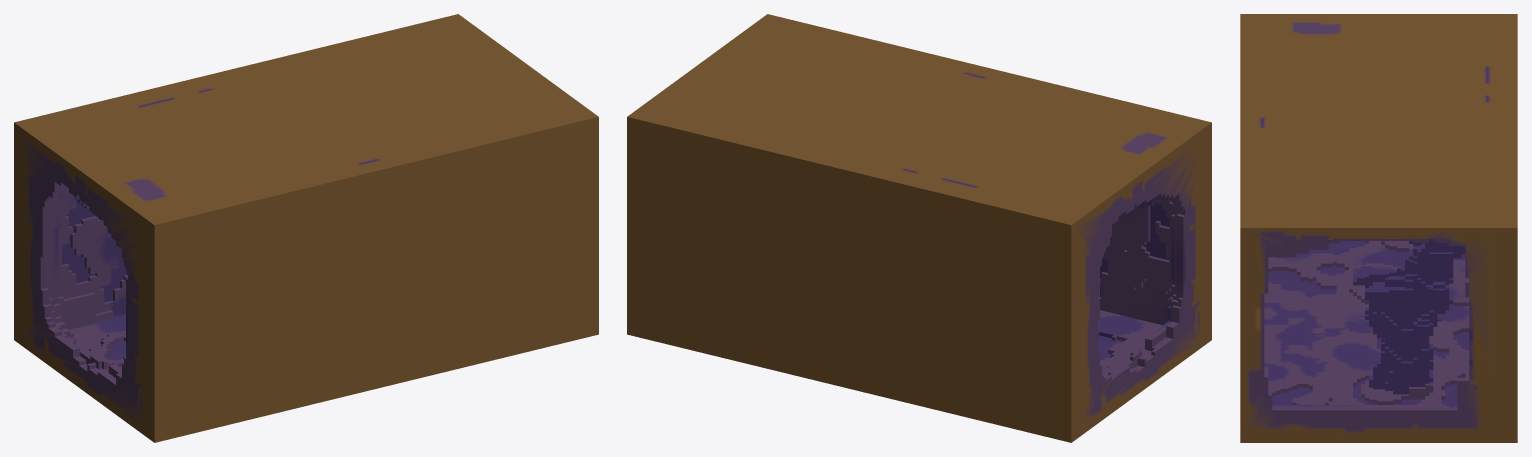
Rendered from Level3_pathway_v4.dae.
The picture shows the model from 3 angles, left to right: view 1: azimuth 30°, elevation 25°; view 2: azimuth 150°, elevation 25°; view 3: azimuth 270°, elevation 25°; orthographic projection.
Parts seen in each view (by area): view 1: level3_pathway_v4.level_3_pathway_v4; view 2: level3_pathway_v4.level_3_pathway_v4; view 3: level3_pathway_v4.level_3_pathway_v4.
Part boxes in pixels (box(x1,y1,x2,y2)): level3_pathway_v4.level_3_pathway_v4: box(14, 14, 598, 442); level3_pathway_v4.level_3_pathway_v4: box(627, 14, 1211, 442); level3_pathway_v4.level_3_pathway_v4: box(1240, 14, 1517, 442).
Size of the model in its own units: 12.6 by 5.9 by 6.9.
1 material, 1 textured.
